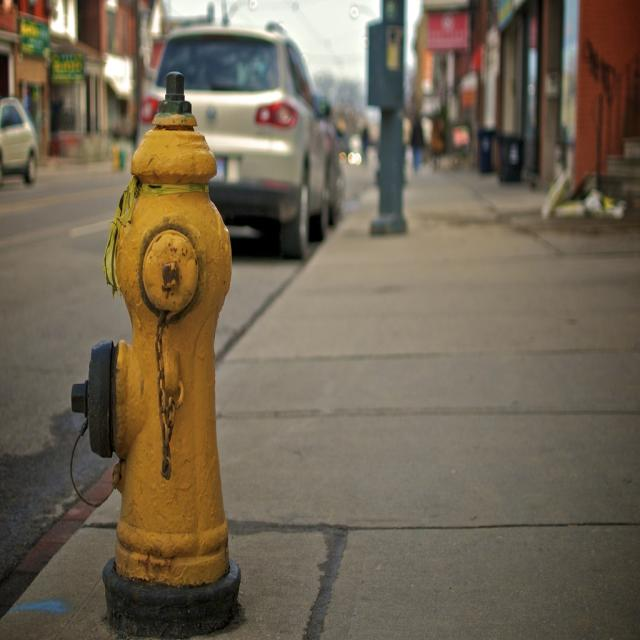fire_hydrant: (70, 70, 242, 640)
